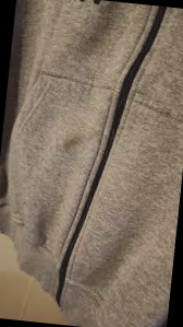oil: (56, 135, 79, 158)
